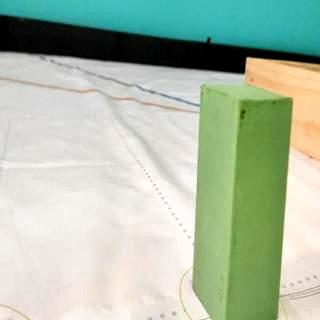greenbox: (191, 83, 294, 320)
